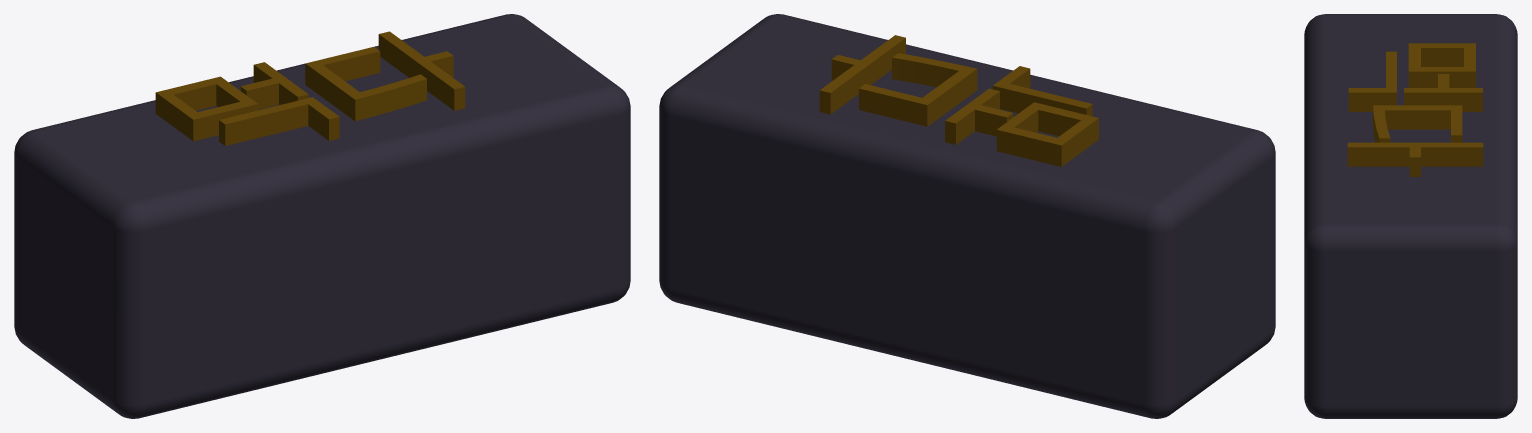
Rendered from eat.glb.
The picture shows the model from 3 angles, left to right: view 1: azimuth 30°, elevation 25°; view 2: azimuth 150°, elevation 25°; view 3: azimuth 270°, elevation 25°; orthographic projection. The views are drawn at different scales.
Visible parts, largest first — view 1: Fillet, Pad001; view 2: Fillet, Pad001; view 3: Fillet, Pad001.
Boxes of the visible parts, bbox=[...] form: Fillet: bbox=[14, 14, 630, 418]; Pad001: bbox=[155, 31, 465, 145]; Fillet: bbox=[659, 14, 1275, 418]; Pad001: bbox=[819, 35, 1098, 166]; Fillet: bbox=[1304, 14, 1517, 418]; Pad001: bbox=[1347, 43, 1483, 176].
Bounding box in the file's own units: 5 × 2.2 × 2.
